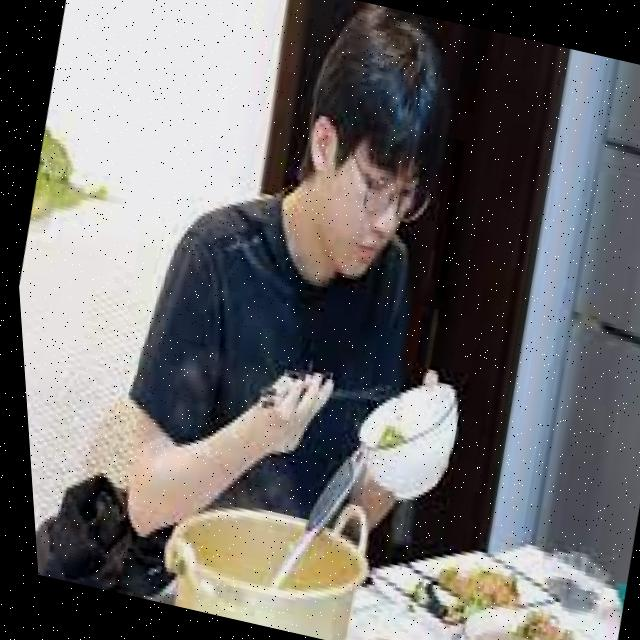eating-person: (68, 0, 544, 608)
